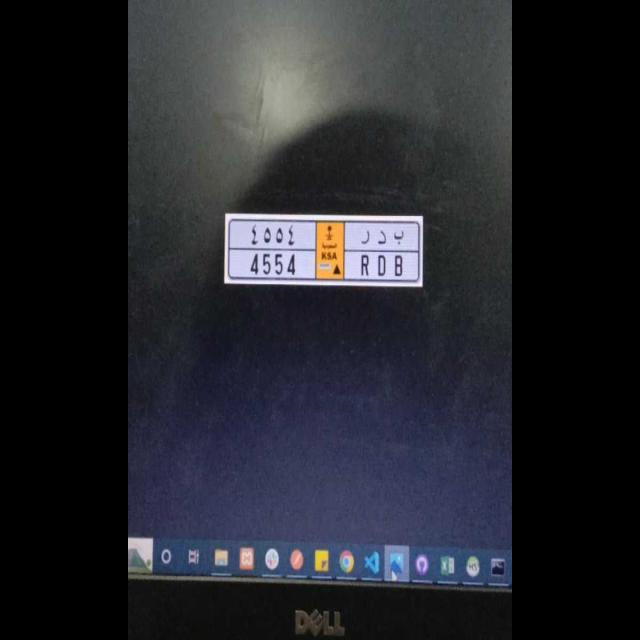license_plate: (226, 246, 420, 284)
